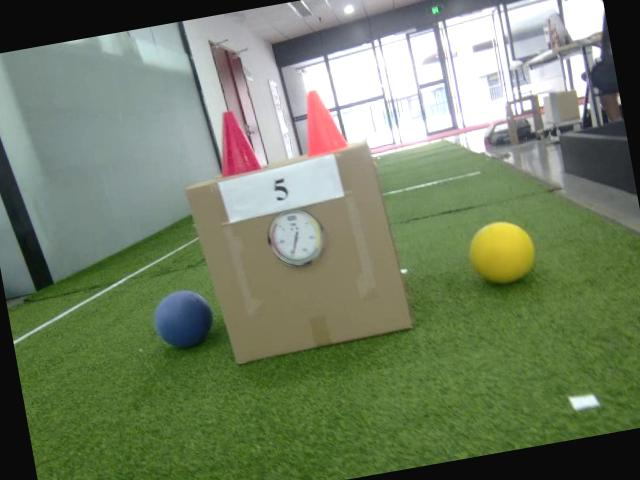5: (270, 178, 290, 201)
Dashboard: (260, 204, 329, 272)
blue_ball: (149, 286, 218, 355)
orange_barrel: (296, 84, 349, 154)
red_barrel: (210, 106, 262, 178)
ssi: (284, 213, 298, 222)
yellow_ball: (465, 217, 538, 287)
